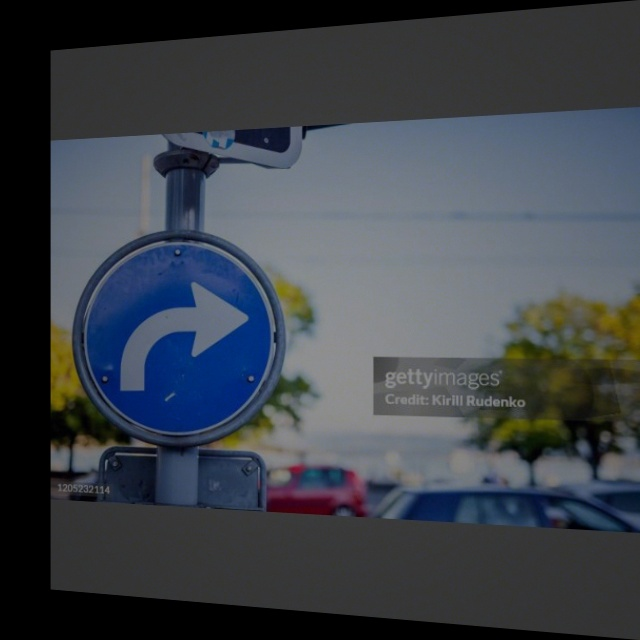Compulsory_Turn_Right_Ahead: (80, 230, 278, 444)
